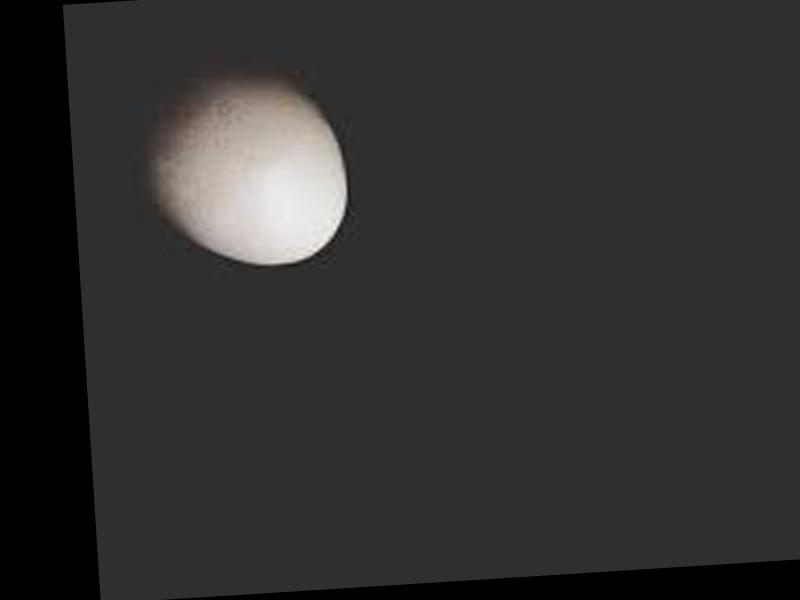Eggs: (134, 64, 350, 274)
